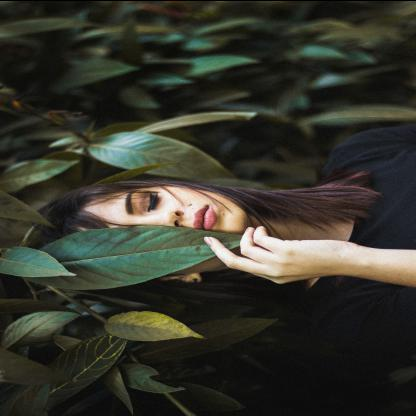Eye: (143, 189, 161, 212)
Mouth: (192, 201, 218, 230)
Nose: (142, 208, 185, 226)
